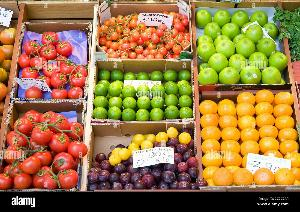apple: (192, 1, 294, 85)
lime: (91, 62, 197, 120)
orange: (192, 84, 300, 192)
plum: (88, 118, 195, 192)
tomato: (0, 100, 90, 190), (12, 24, 90, 102), (98, 0, 194, 58)
